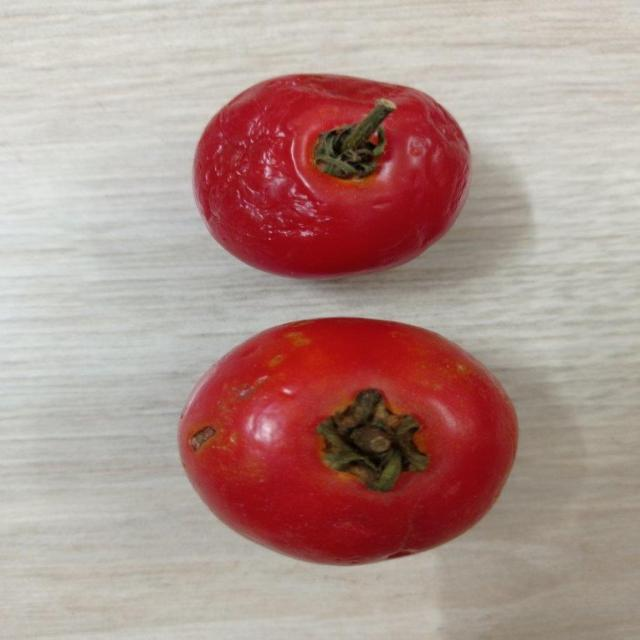Ripe: (162, 310, 516, 564)
overripe: (189, 73, 476, 283)
